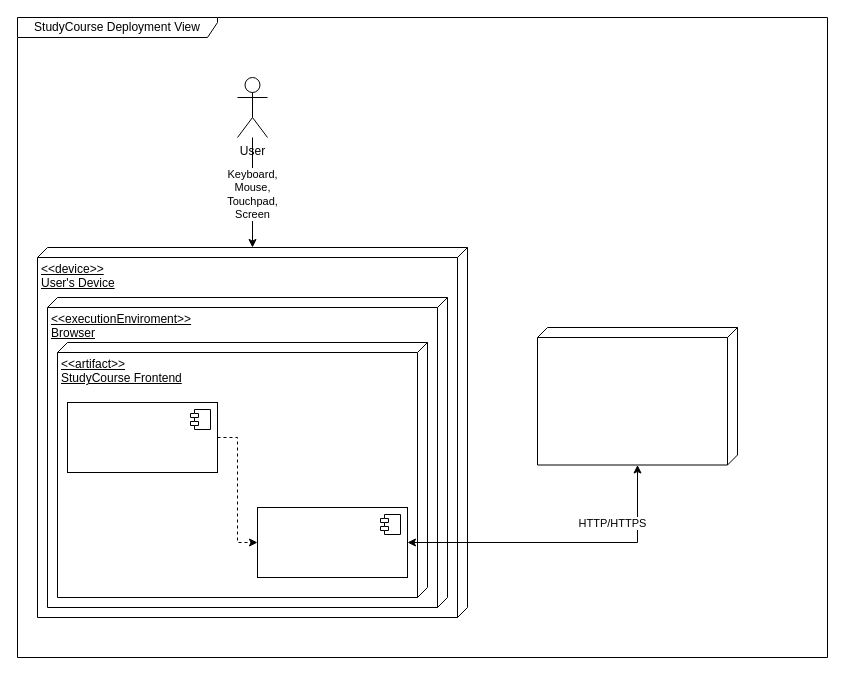
This 845x675 diagram has some shape labels left out. The centre of each missing label's shape, as x and y in pixels:
<<artifact>> StudyBase: the point at 637,395
«component» app/ (UI): the point at 142,437
«component» shared/ (services): the point at 332,542
